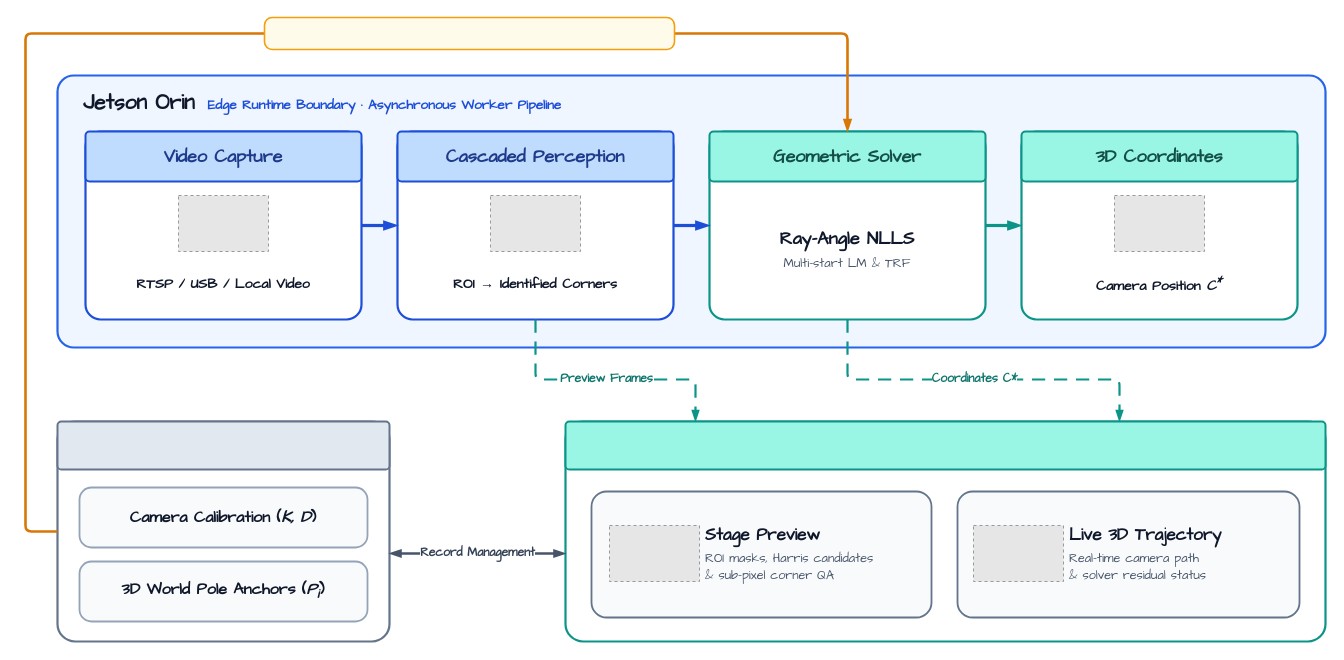
Some shapes in this 1344 by 660 pixel diagram are drawn without their labels. Grey dashed boxes stand in for pictures. Each missing label, with the box of its shape:
PyQt5 Inspection Workstation: (564, 420, 1326, 470)
SQLite: (56, 420, 390, 470)
Stored Camera Intrinsics K & World Anchors P i: (263, 16, 675, 50)
